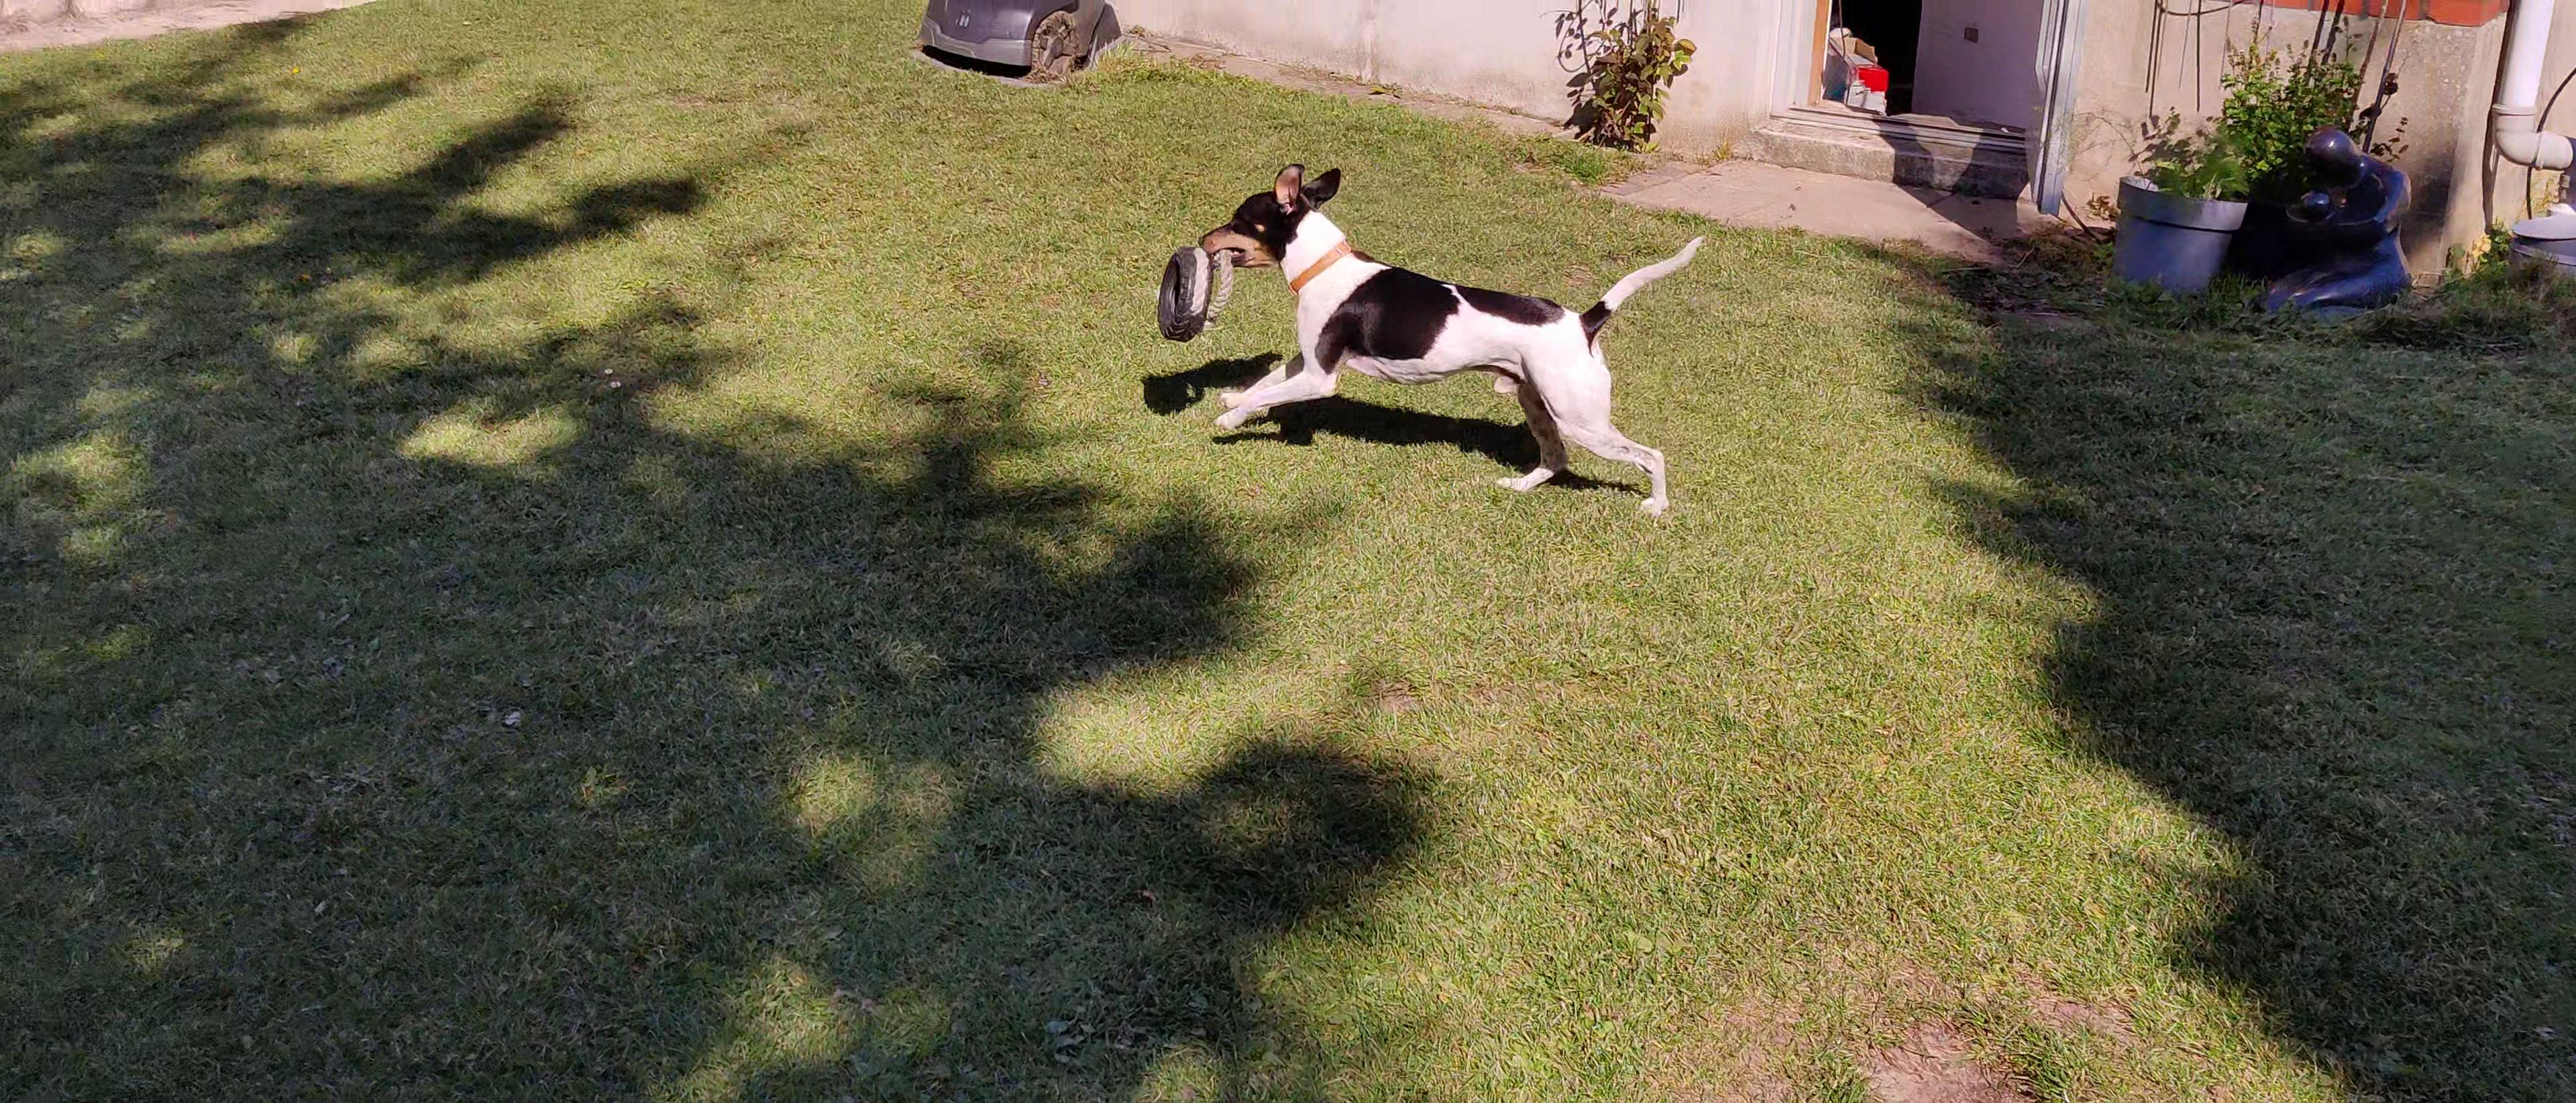Dog: (1181, 122, 1710, 538)
